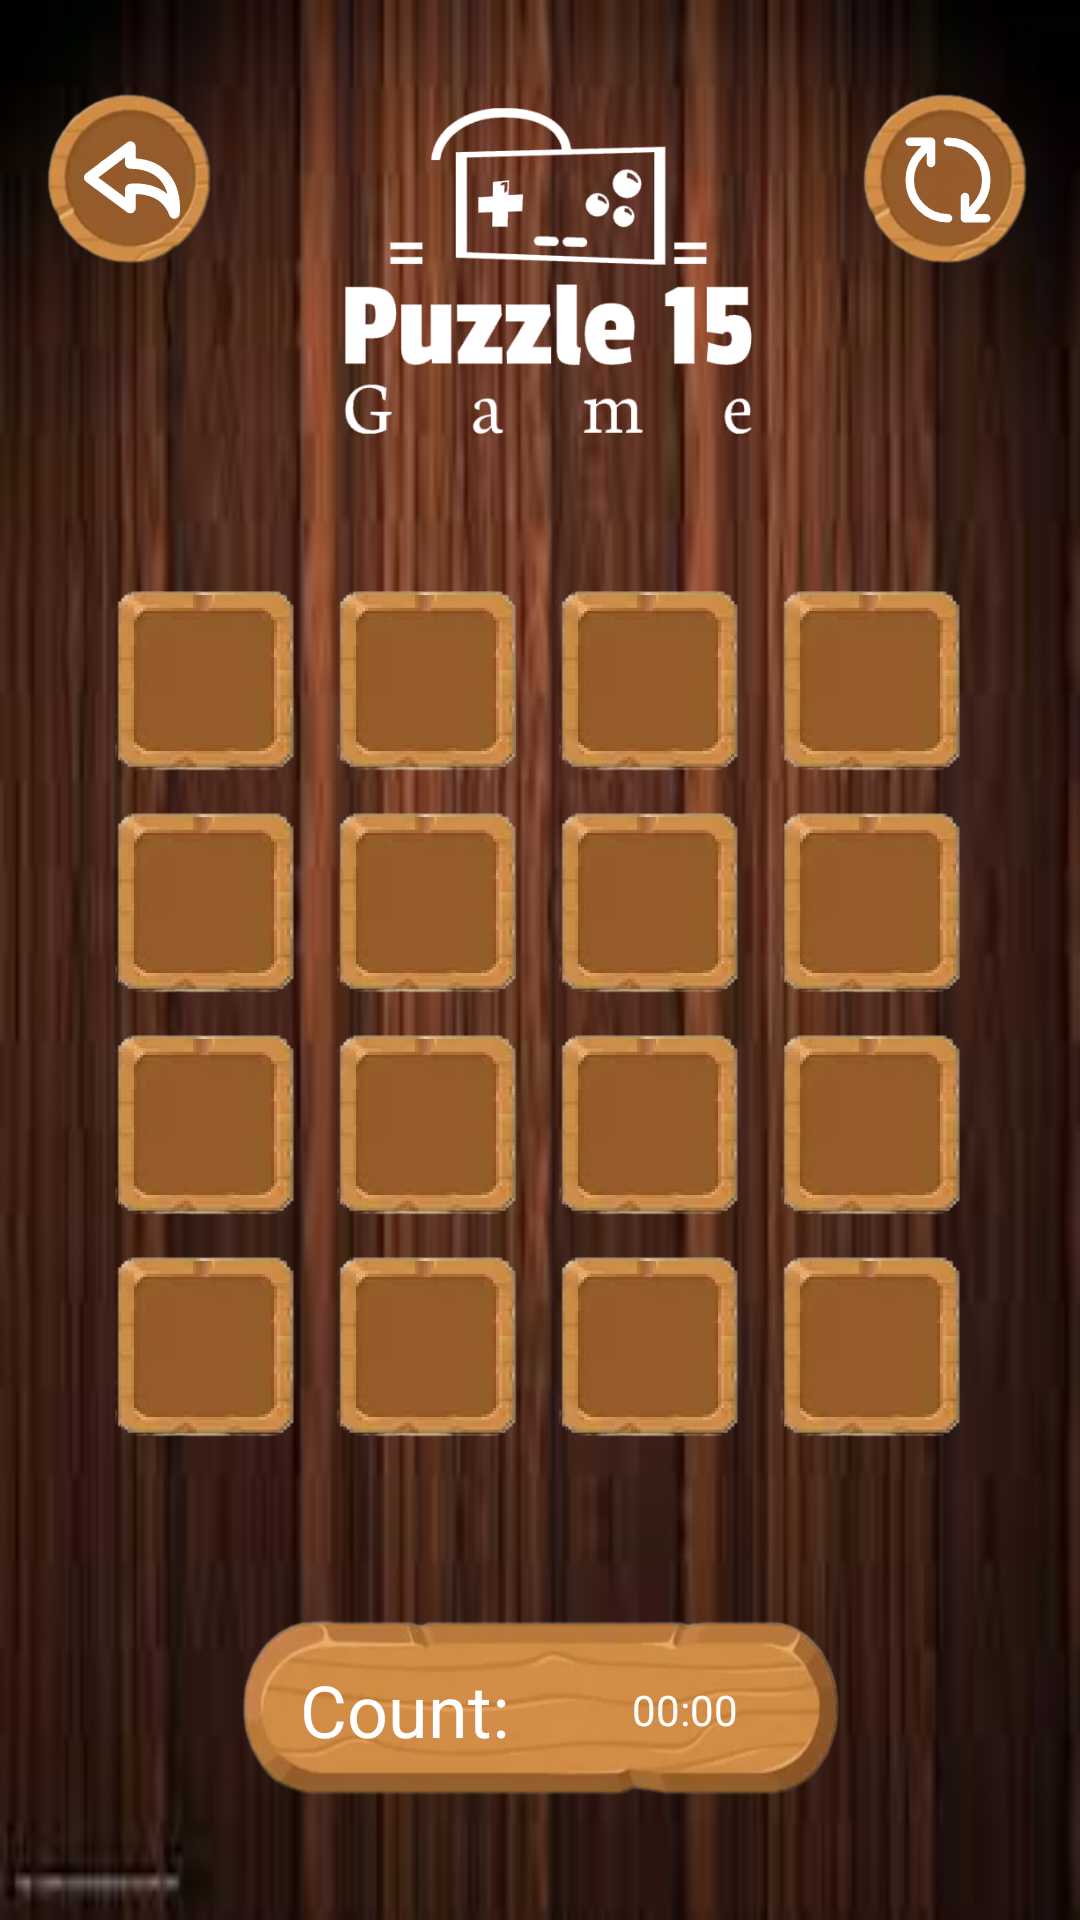

Point at icon controls on the screen. Image size 1080 × 1920, points as (x,y).
back: (132,180)
refresh: (948,180)
